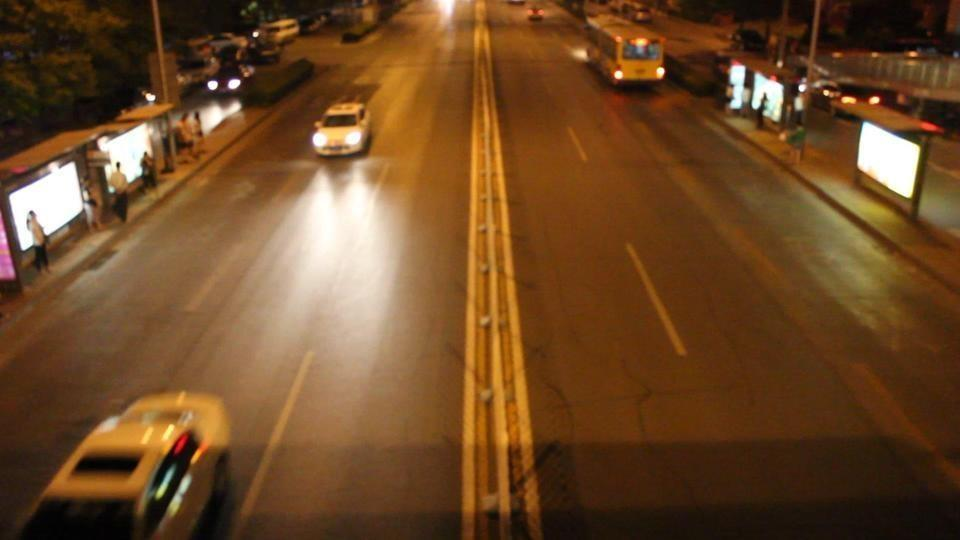car: (17, 389, 239, 538), (310, 97, 374, 159), (175, 34, 242, 72), (243, 26, 289, 62), (204, 64, 250, 97), (254, 17, 300, 45), (729, 27, 767, 53), (297, 13, 328, 35), (527, 2, 545, 21)
